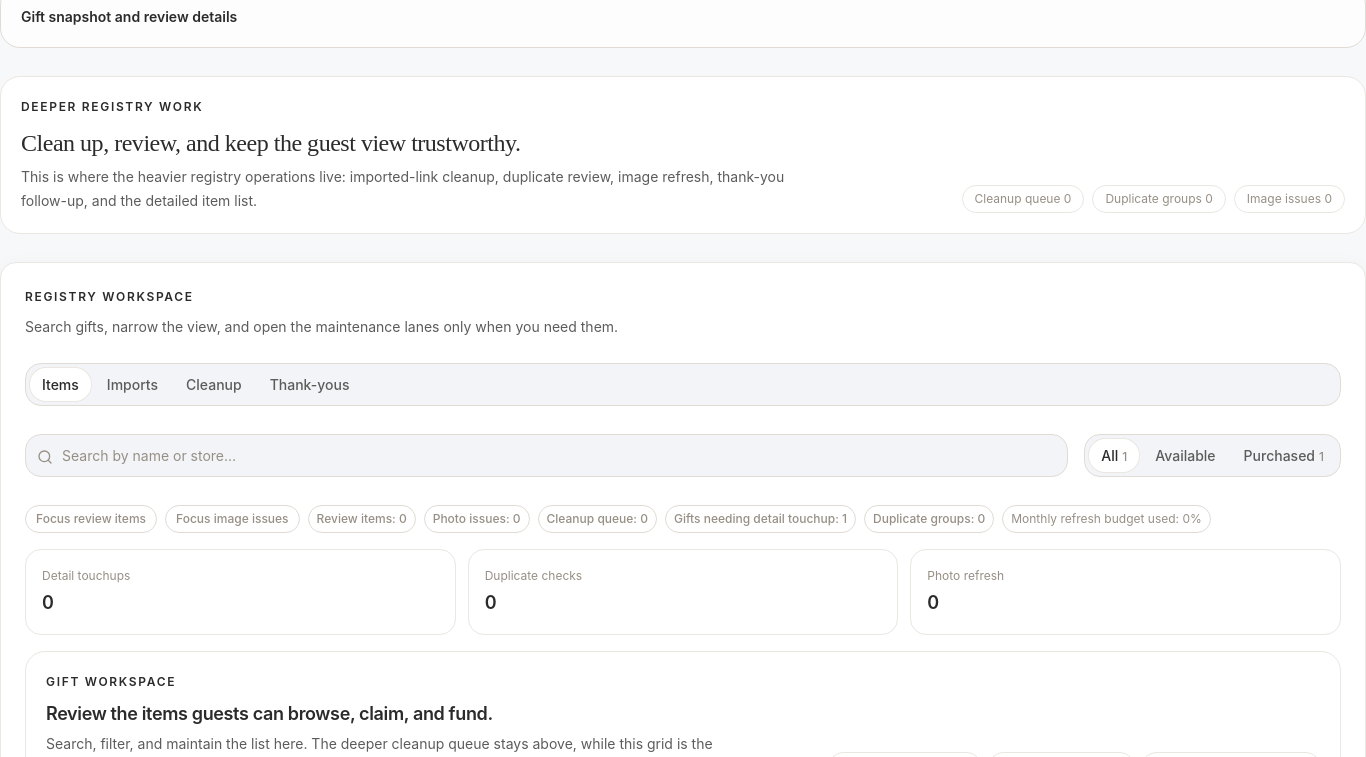
RegistryDashboardRouteContent › shows the latest cleanup run summary in the cleanup workspace
This screenshot has width=1366, height=757.
(page scrolled)
Click the button "Cleanup". click: (214, 384)
box: [174,368,254,401]
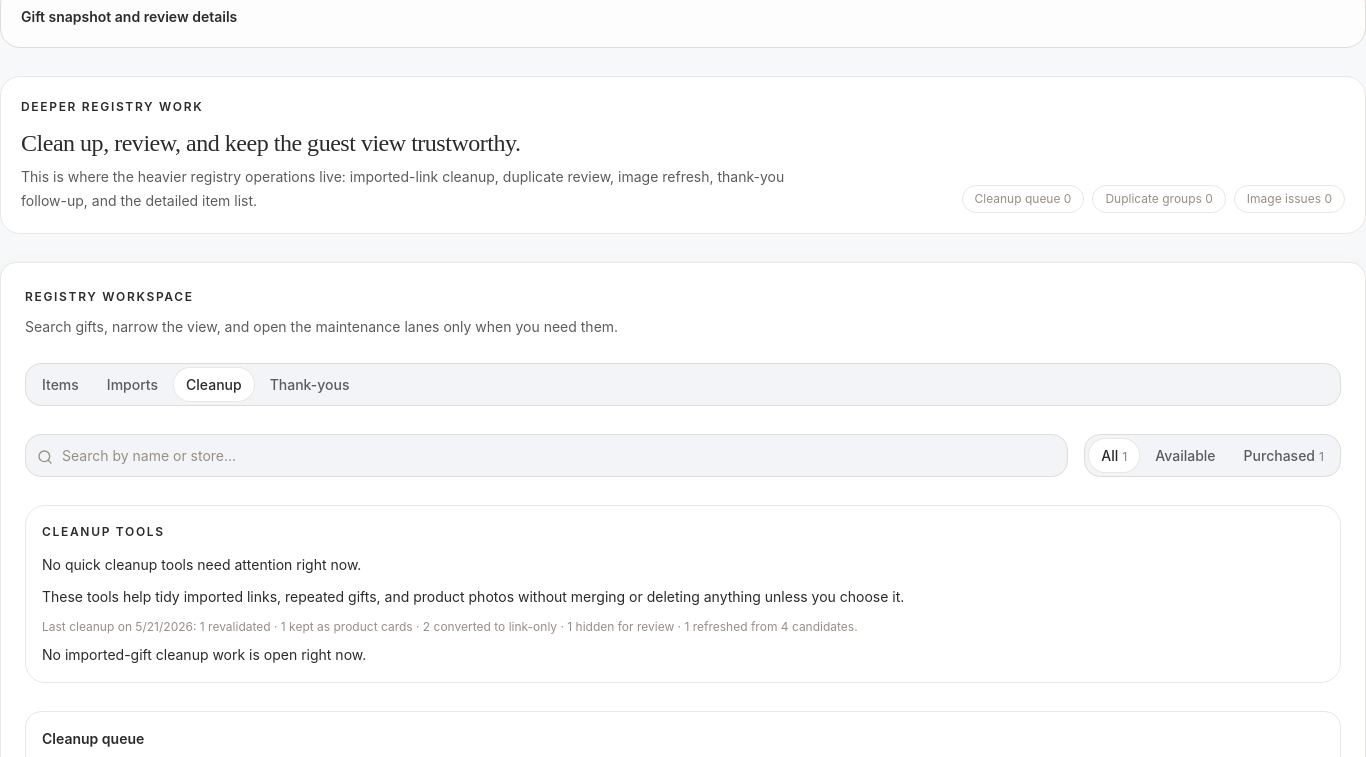
Expected: the text "Last cleanup on" is shown, [42,619,135,634]
Expected: the text "1 refreshed" is shown, [200,619,748,634]
